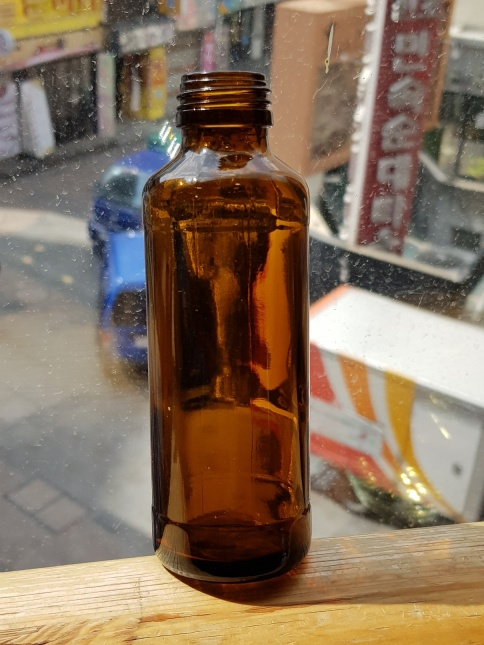Glass: (139, 71, 315, 587)
